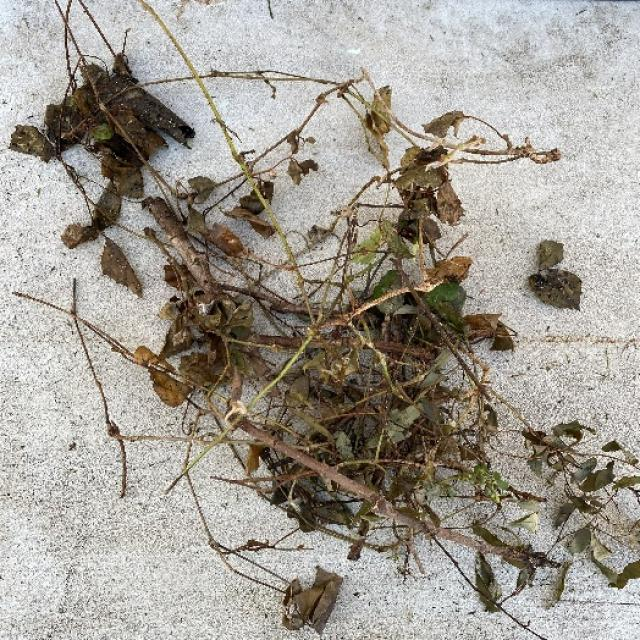organik: (32, 0, 636, 592)
